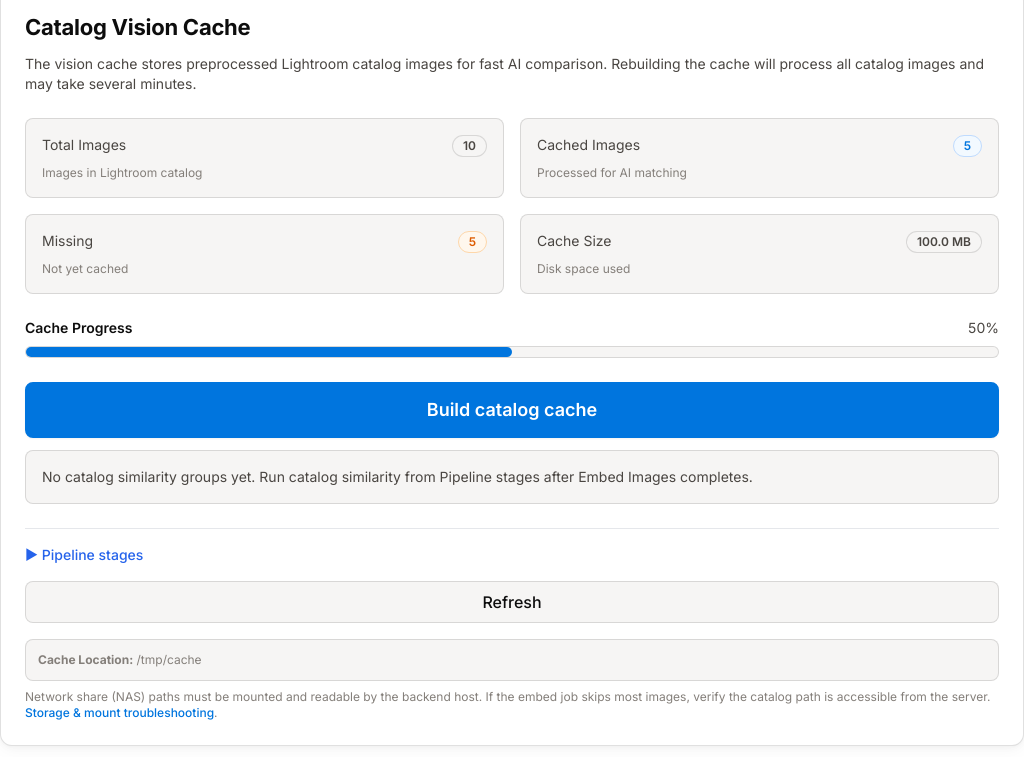
Test: CatalogCacheTab › shows success copy and Open Job Queue after embed enqueue
Click the button "▶ Pipeline stages" at x=84, y=555, box x1=25 y1=545 x2=143 y2=565
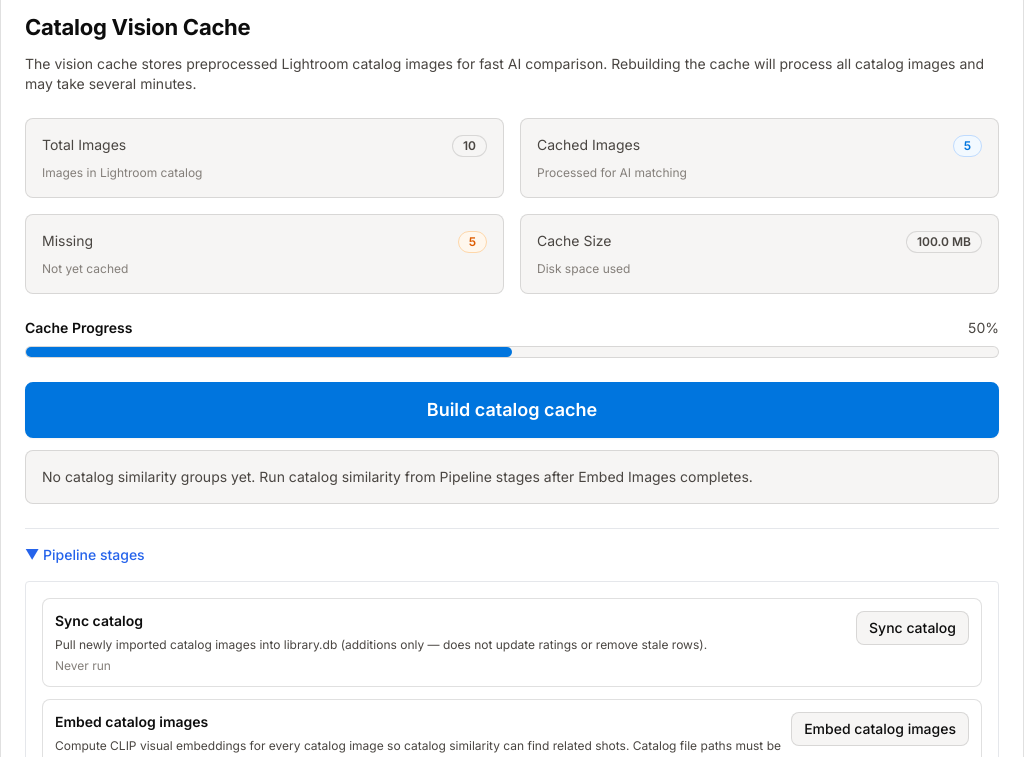
Click the button "Embed catalog images" at x=880, y=729, box x1=791 y1=712 x2=969 y2=746
(page scrolled)
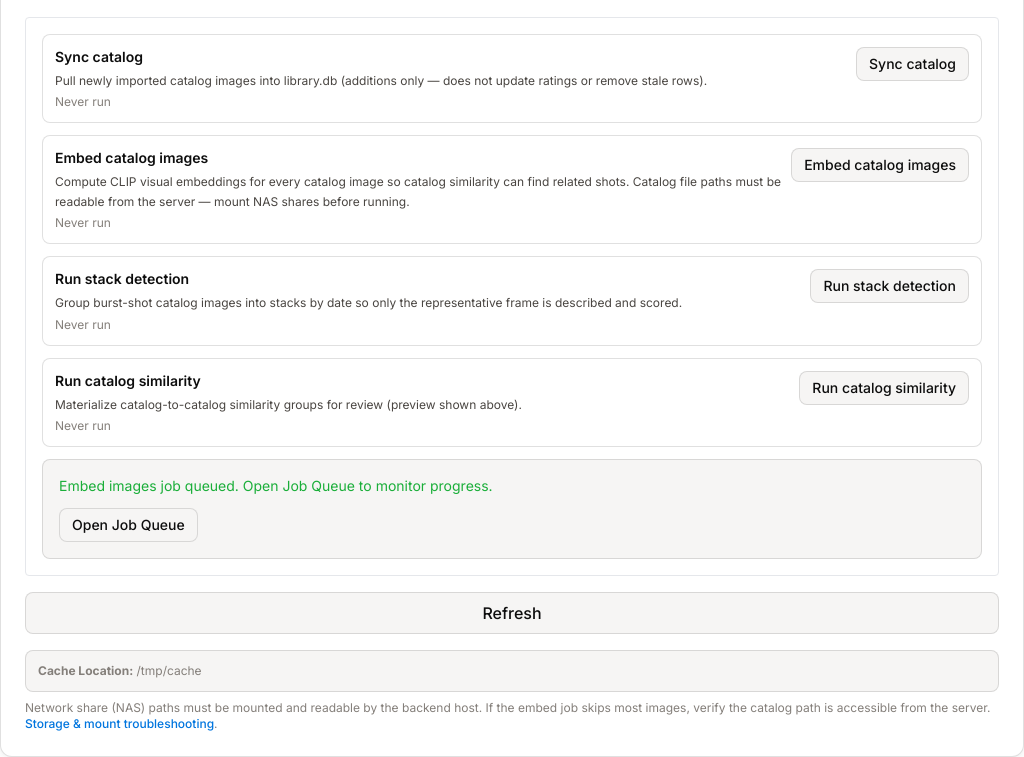
Now the text "Embed images job queued. Open Job Queue to monitor progress." is shown, box x1=59 y1=477 x2=493 y2=494
Now the button "Open Job Queue" is shown, box x1=59 y1=508 x2=198 y2=542
